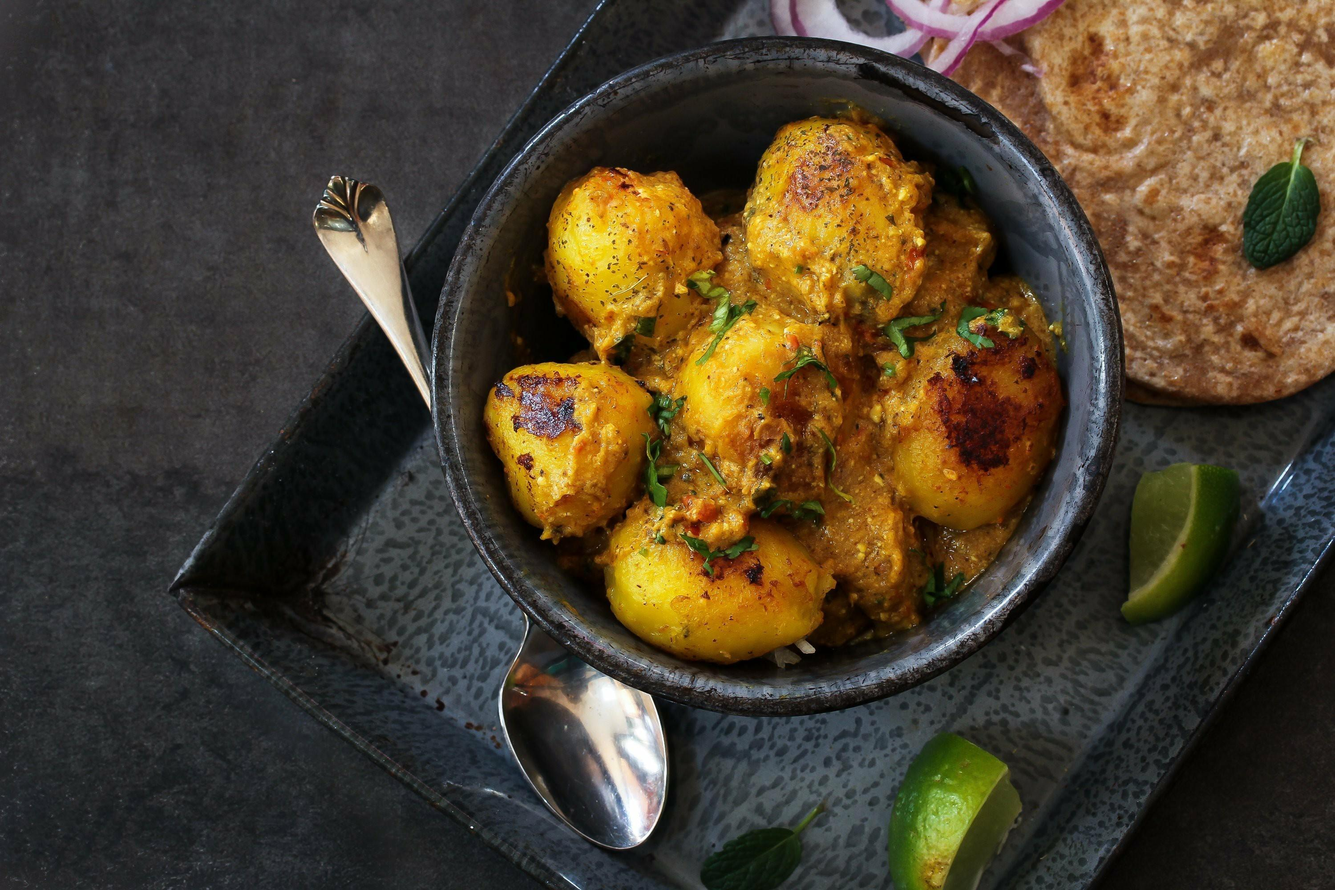DumAloo: (481, 114, 1062, 659)
